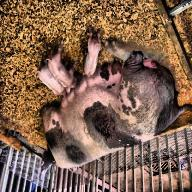boar: (40, 25, 192, 180)
